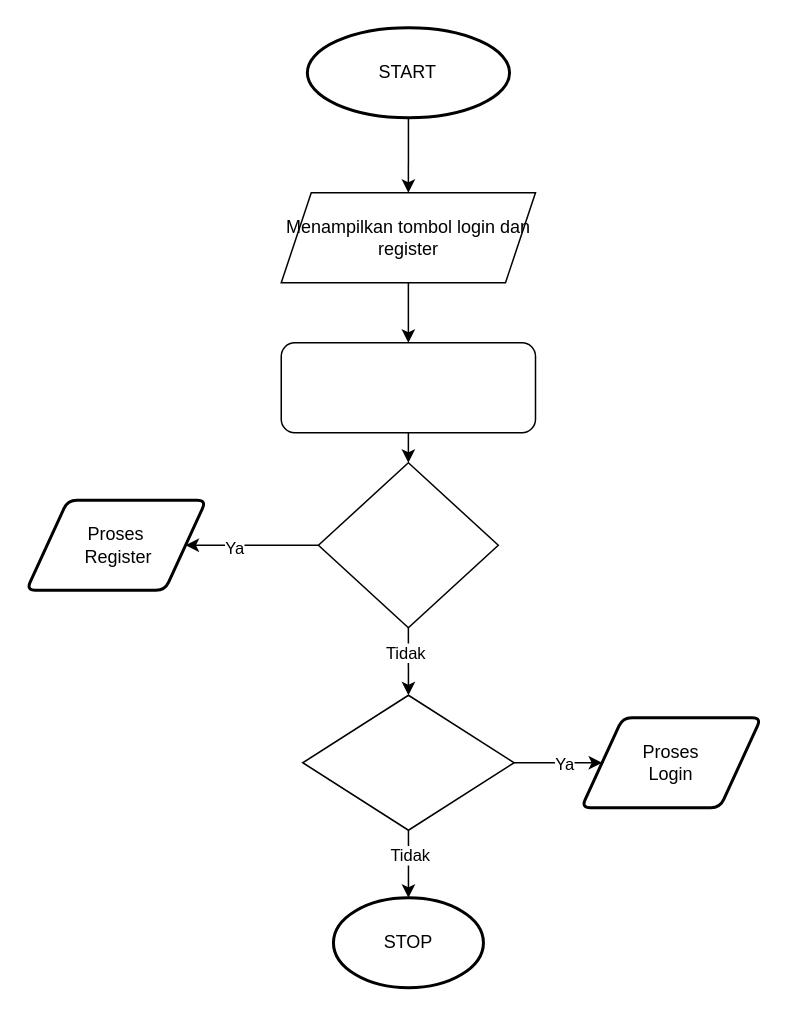
Some shapes in this 789 by 1014 pixel diagram are drawn without their labels. The shapes that lost their labels are listed below. From the top down, each one's centre as x and y in pixels, then its label:
(408,387): Pengguna mengklik salah satu tombol
(407,544): Apakah klik Register?
(407,762): Apakah kilk Login?
